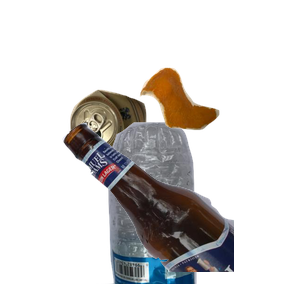glass: (60, 120, 300, 300)
metal: (67, 87, 206, 234)
plastic: (96, 120, 285, 300)
trash: (137, 65, 300, 188)
